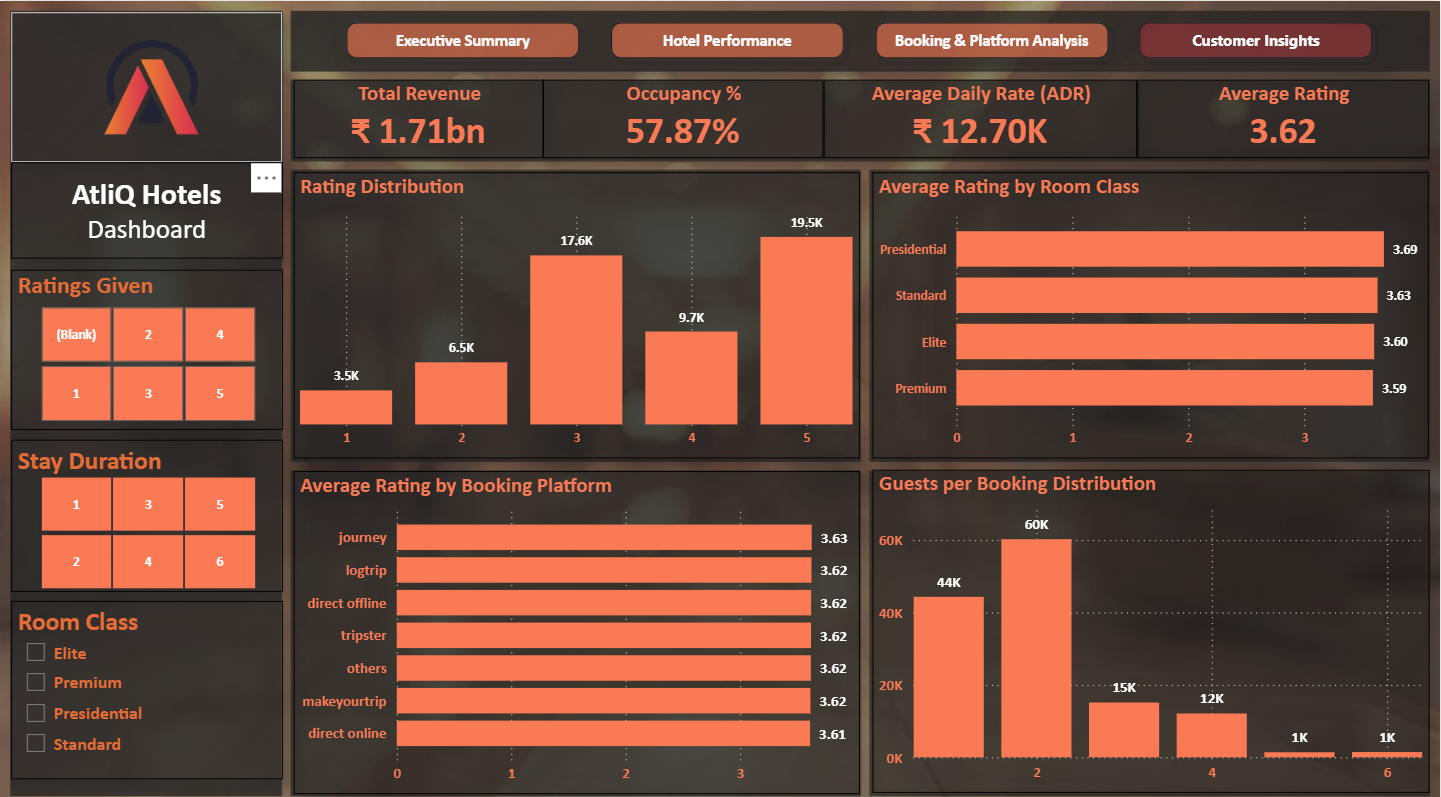

This screenshot's page, from the dashboard's own definition file:
{"tool":"powerbi","page":{"name":"Customer Insights","canvas":[1280,720],"ordinal":3},"visuals":[{"type":"image","box":[9.7,9.7,241.3,133.9],"z":0},{"type":"textbox","box":[9.7,143.6,241.3,85.7],"z":1000},{"type":"card","title":"Total Revenue","fields":{"Values":[" Measures.Total Revenue"]},"box":[260.7,70,222.3,70],"z":2000},{"type":"card","title":"Occupancy %","fields":{"Values":[" Measures.Occupancy %"]},"box":[482.6,70,249.7,70],"z":3000},{"type":"card","title":"Average Daily Rate (ADR)","fields":{"Values":[" Measures.ADR(Average Daily Rate)"]},"box":[732.3,70,278.7,70],"z":4000},{"type":"card","title":"Average Rating","fields":{"Values":[" Measures.Average Rating"]},"box":[1011.3,70,259.3,70],"z":5000},{"type":"slicer","title":"Ratings Given","fields":{"Values":["fact_bookings.ratings_given"]},"box":[9.7,238.9,241.3,142.4],"z":6000},{"type":"slicer","title":"Stay Duration","fields":{"Values":["fact_bookings.Stay Duration"]},"box":[9.7,389.7,241.3,135.1],"z":7000},{"type":"slicer","title":"Room Class","fields":{"Values":["dim_rooms.room_class"]},"box":[9.7,533.2,241.3,158],"z":8000},{"type":"columnChart","title":"Rating Distribution","fields":{"Category":["fact_bookings.ratings_given"],"Y":[" Measures.Total Bookings"]},"box":[260.6,152,503.1,254.6],"z":9000},{"type":"barChart","title":"Average Rating by Room Class","fields":{"Category":["dim_rooms.room_class"],"Y":[" Measures.Average Rating"]},"box":[775.7,152,494.6,254.6],"z":10000},{"type":"barChart","title":"Average Rating by Booking Platform","fields":{"Category":["fact_bookings.booking_platform"],"Y":[" Measures.Average Rating"]},"box":[260.6,417.4,503.1,287.1],"z":11000},{"type":"columnChart","title":"Guests per Booking Distribution","fields":{"Category":["fact_bookings.no_guests"],"Y":[" Measures.Total Bookings"]},"box":[776,417,495,287],"z":12000},{"type":"pageNavigator","box":[299.2,9.7,931.4,50.7],"z":13000}]}

Visuals, with their boxes in screenshot pixels (x1, y1, x2, y2), scaled from the page's 1280x720 canvas onto the 1441x797 screenshot:
image: box=[11, 11, 283, 159]
textbox: box=[11, 159, 283, 254]
"Total Revenue" card: box=[293, 77, 544, 155]
"Occupancy %" card: box=[543, 77, 824, 155]
"Average Daily Rate (ADR)" card: box=[824, 77, 1138, 155]
"Average Rating" card: box=[1139, 77, 1430, 155]
"Ratings Given" slicer: box=[11, 264, 283, 422]
"Stay Duration" slicer: box=[11, 431, 283, 581]
"Room Class" slicer: box=[11, 590, 283, 765]
"Rating Distribution" columnChart: box=[293, 168, 860, 450]
"Average Rating by Room Class" barChart: box=[873, 168, 1430, 450]
"Average Rating by Booking Platform" barChart: box=[293, 462, 860, 780]
"Guests per Booking Distribution" columnChart: box=[874, 462, 1431, 779]
pageNavigator: box=[337, 11, 1385, 67]
